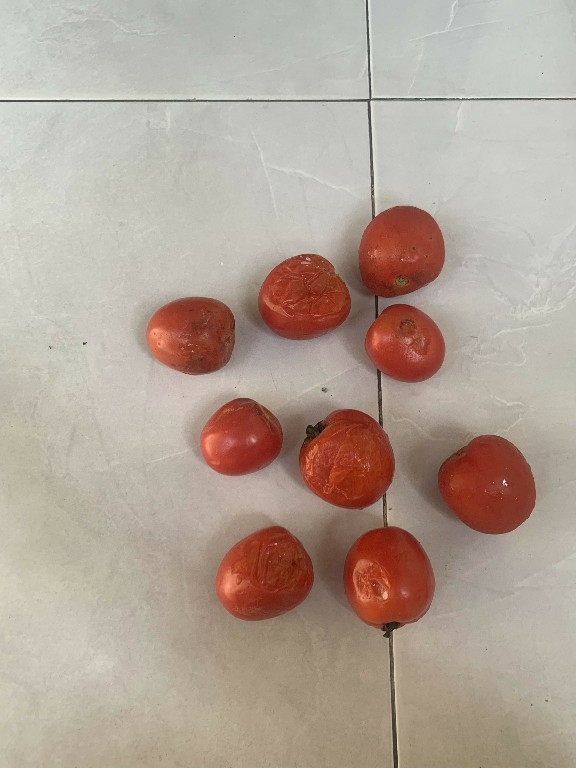NG: (335, 521, 443, 640), (298, 403, 404, 515), (213, 520, 320, 626), (256, 251, 366, 349), (135, 285, 245, 379), (197, 391, 288, 486), (359, 296, 452, 388)
OK: (431, 426, 544, 545), (356, 201, 452, 307)
